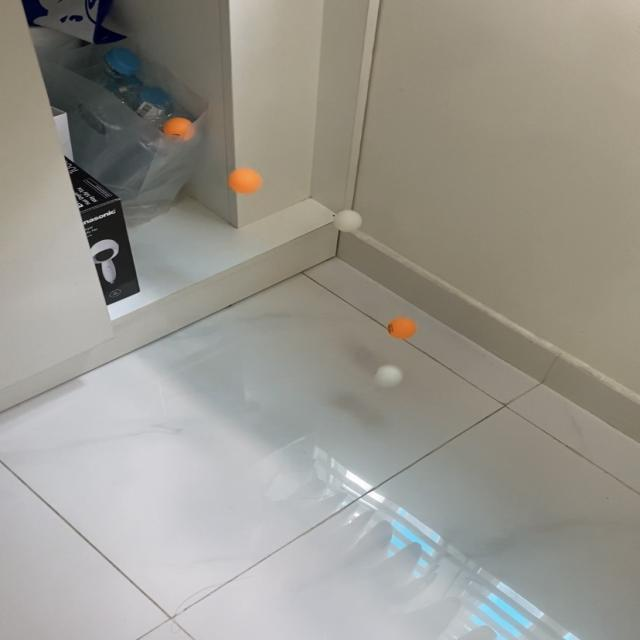ping-pong-ball: (372, 362, 404, 390), (229, 169, 263, 195), (162, 117, 195, 143), (387, 317, 418, 342), (335, 210, 363, 232)
